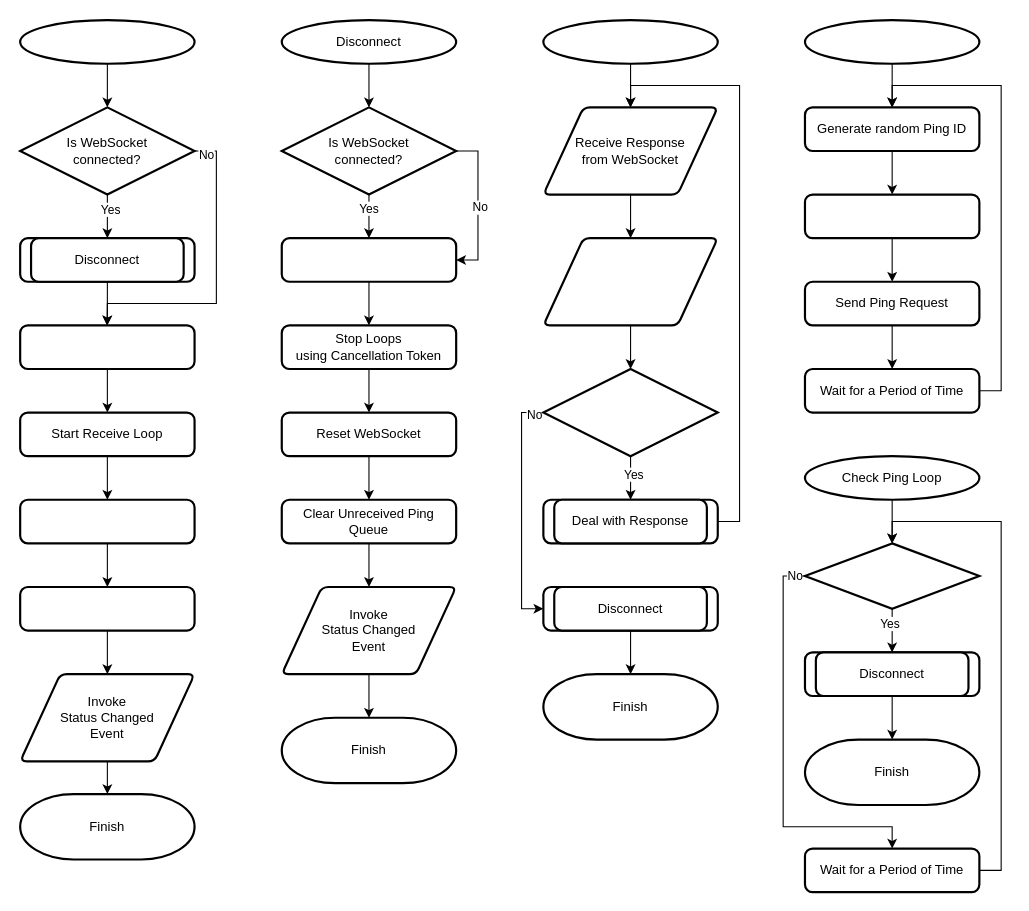
Some shapes in this 1029 by 911 pixel diagram are drawn without their labels. Here are the shapes that lost their labels. From the top down, the centre of each, then its label:
At point (107, 41): "Connect".
At point (630, 41): "Receive Loop".
At point (891, 41): "Send Ping Loop".
At point (891, 216): "Add Ping ID to queue of Ping IDs".
At point (368, 259): "Disconnect from WebSocket".
At point (630, 281): "Deserialise Response".
At point (107, 347): "Connect to WebSocket".
At point (630, 412): "Is successfully deserialised?".
At point (107, 521): "Start Send Ping Loop".
At point (891, 575): "No of unreceived pings over maximum?".
At point (107, 608): "Start Check Ping Loop".
